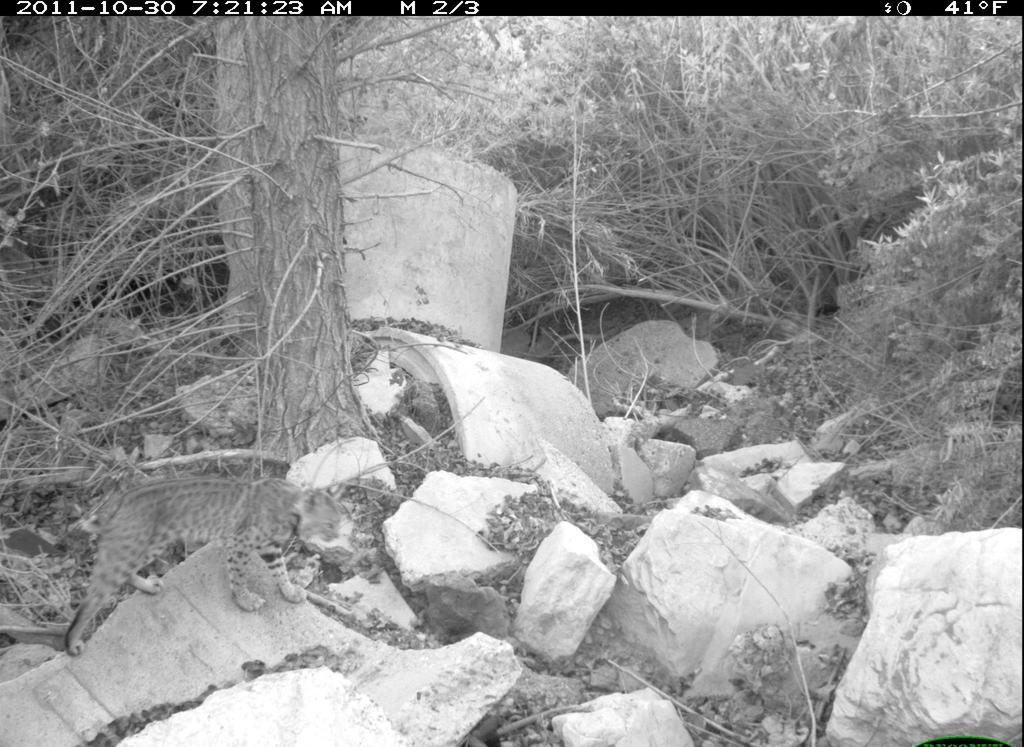bobcat: (62, 468, 379, 679)
